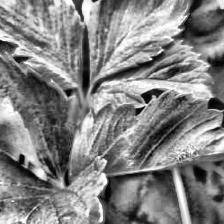Powdery Mildew Leaf: (67, 87, 224, 184), (95, 39, 214, 98)
